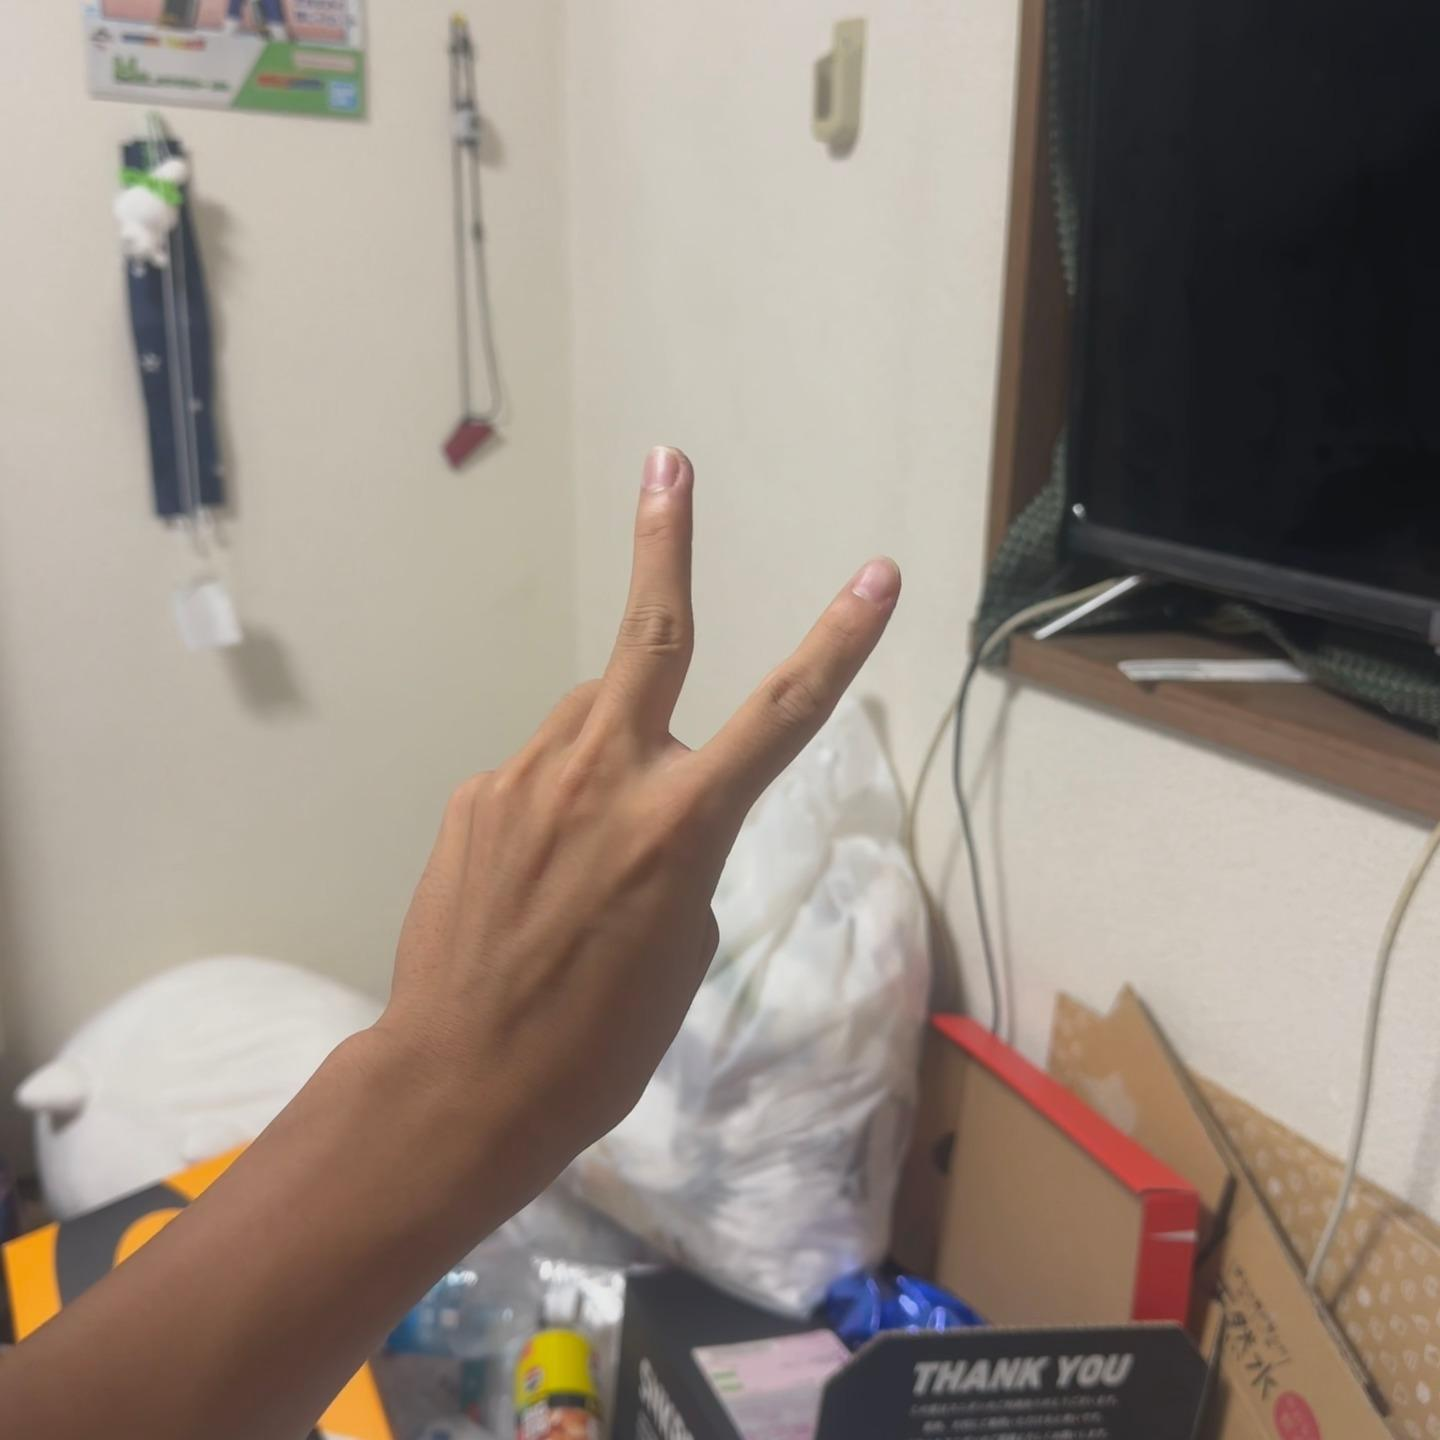without_gloves: (372, 407, 1080, 1329)
